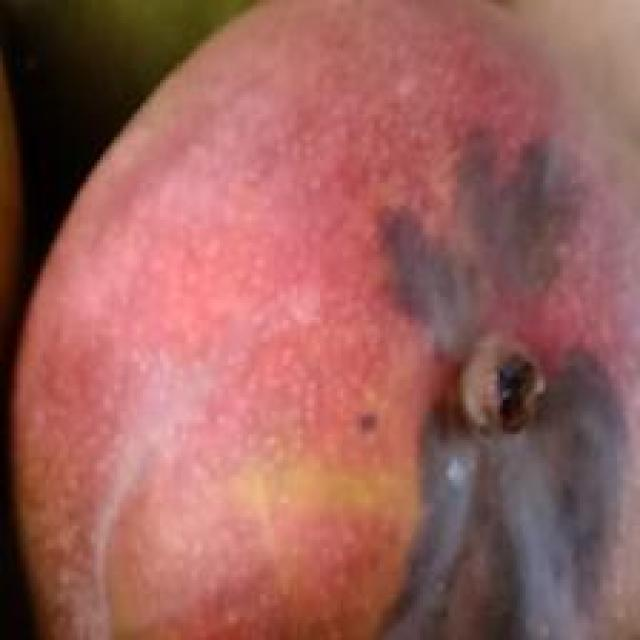Bad_Mango: (14, 5, 640, 639)
